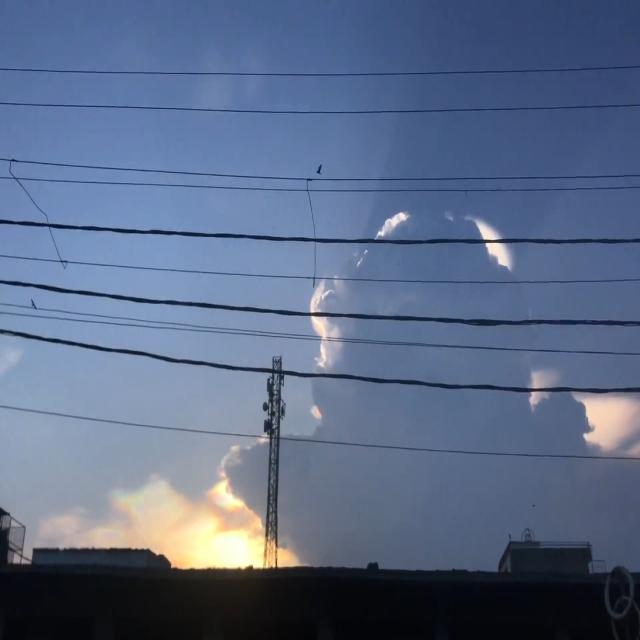bird: (314, 160, 325, 184), (31, 297, 36, 313)
